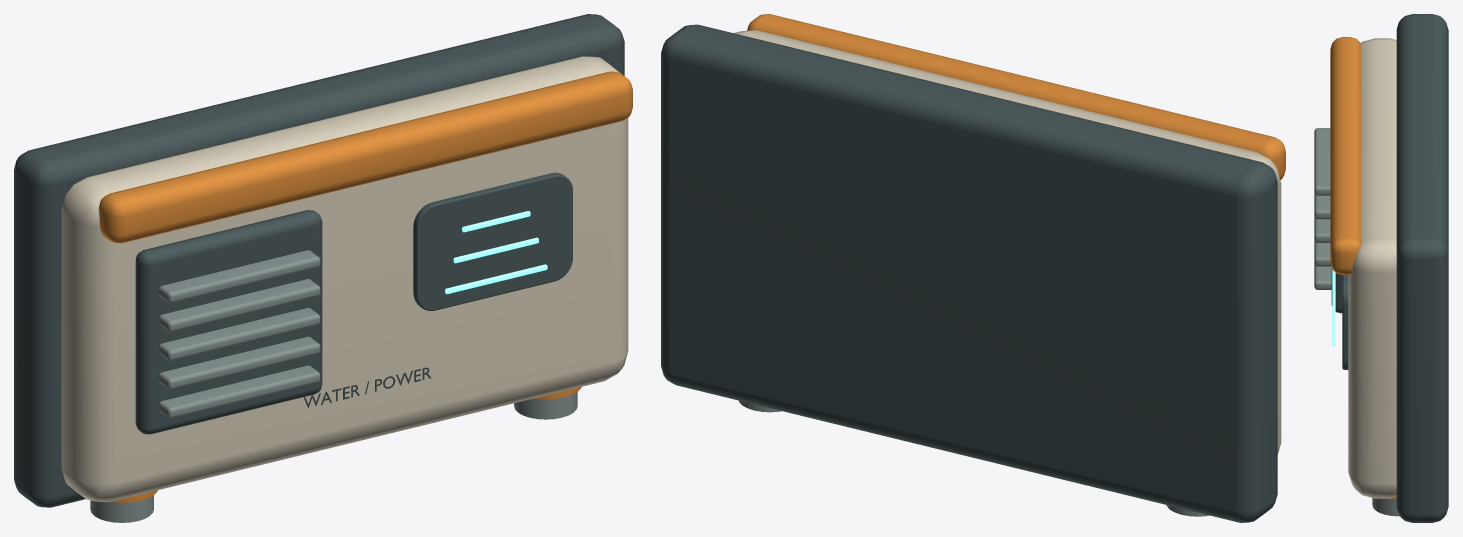
File: wall-utility.glb
3 renders of one model, left to right at view 1: azimuth 30°, elevation 25°; view 2: azimuth 150°, elevation 25°; view 3: azimuth 270°, elevation 25°, orthographic. The views are drawn at different scales.
Visible parts, largest first — view 1: wall-utility / 01 • warm porcelain paint, wall-utility / 06 • dark anodized frame, wall-utility / 03 • ochre enamel, wall-utility / 05 • brushed titanium, wall-utility / 08 • cyan indicator, wall-utility / 11 • dark graphic; view 2: wall-utility / 06 • dark anodized frame, wall-utility / 03 • ochre enamel, wall-utility / 01 • warm porcelain paint; view 3: wall-utility / 06 • dark anodized frame, wall-utility / 01 • warm porcelain paint, wall-utility / 03 • ochre enamel, wall-utility / 05 • brushed titanium, wall-utility / 08 • cyan indicator.
Boxes of the visible parts, x1,y1,x2,y2 form: wall-utility / 01 • warm porcelain paint: [61, 56, 628, 502]; wall-utility / 06 • dark anodized frame: [14, 14, 624, 507]; wall-utility / 03 • ochre enamel: [98, 71, 632, 502]; wall-utility / 05 • brushed titanium: [90, 250, 577, 522]; wall-utility / 08 • cyan indicator: [445, 211, 547, 294]; wall-utility / 11 • dark graphic: [303, 367, 431, 408]; wall-utility / 06 • dark anodized frame: [661, 24, 1277, 522]; wall-utility / 03 • ochre enamel: [747, 14, 1285, 179]; wall-utility / 01 • warm porcelain paint: [734, 30, 1281, 454]; wall-utility / 06 • dark anodized frame: [1331, 14, 1448, 522]; wall-utility / 01 • warm porcelain paint: [1348, 38, 1396, 498]; wall-utility / 03 • ochre enamel: [1330, 37, 1396, 499]; wall-utility / 05 • brushed titanium: [1314, 128, 1399, 516]; wall-utility / 08 • cyan indicator: [1332, 269, 1335, 346].
Size of the model in its own units: 1.4 by 0.81 by 0.335.
